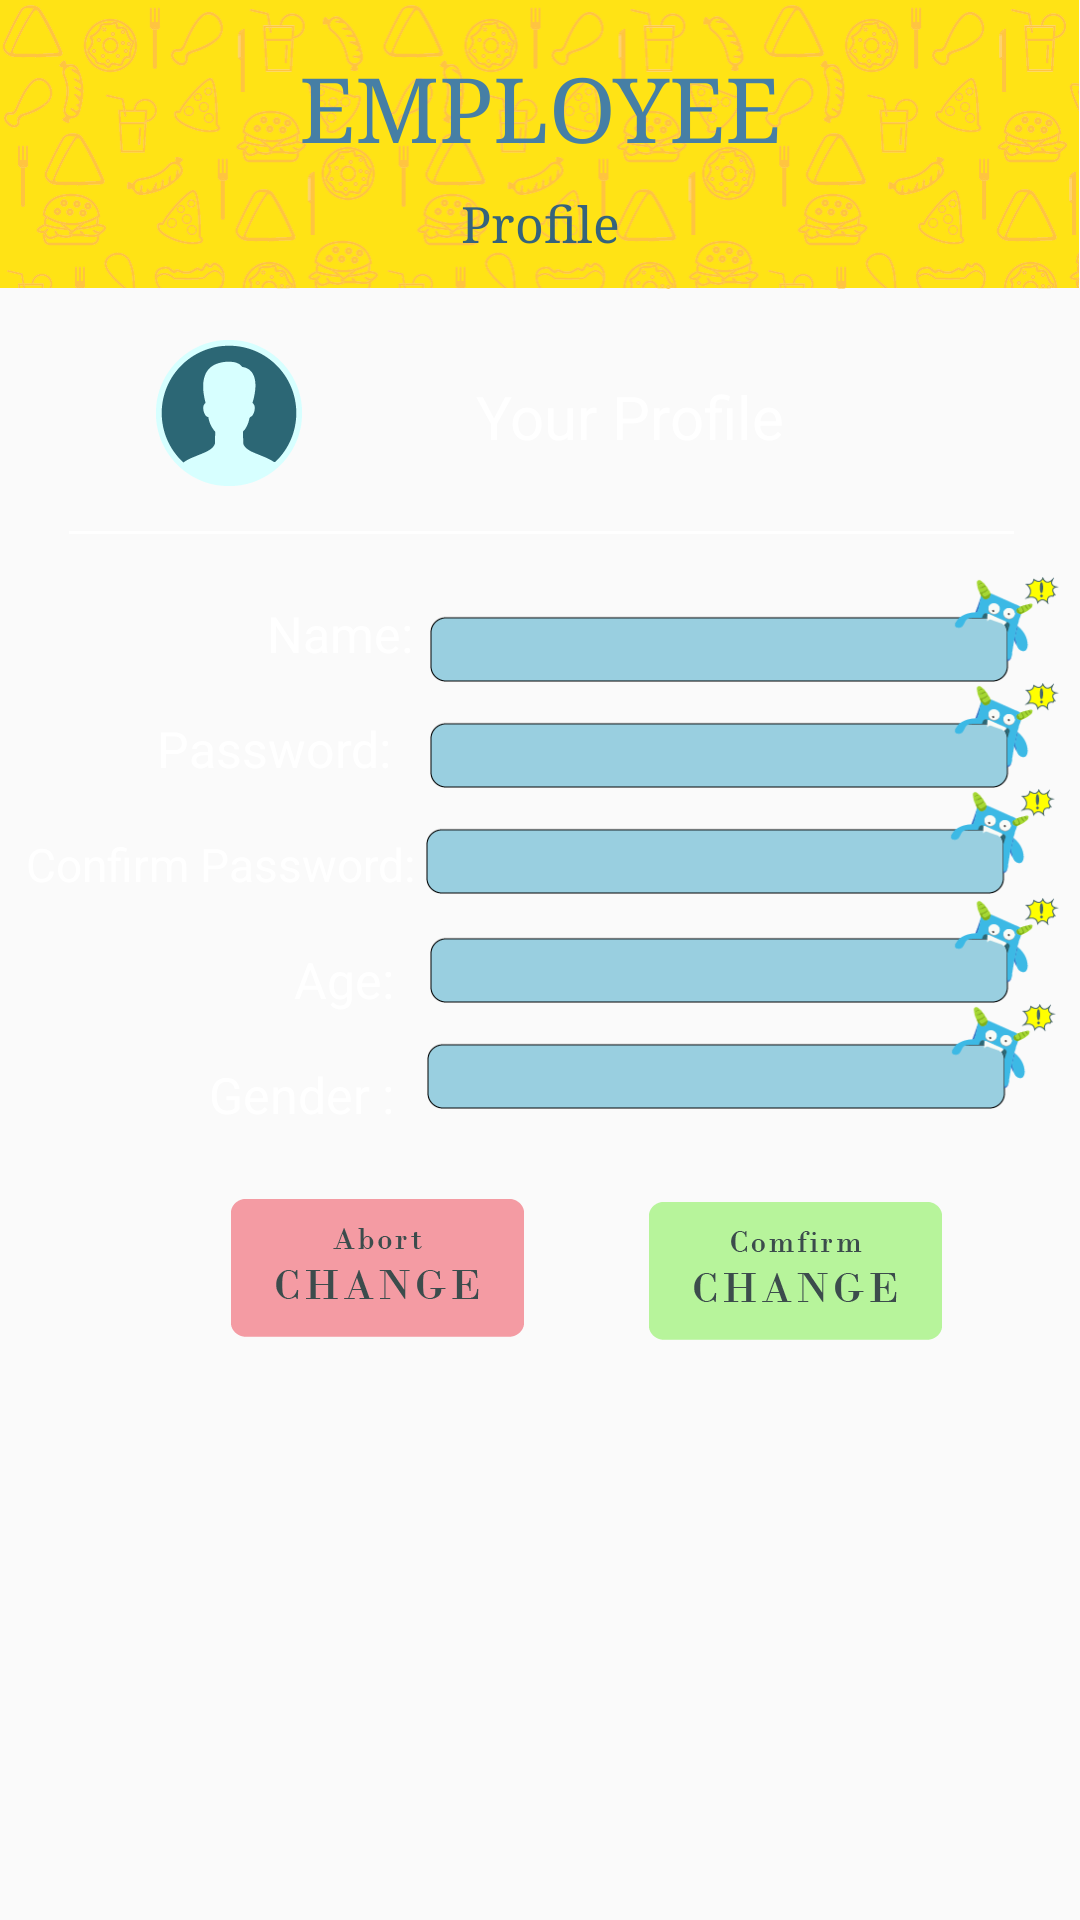

Icons on this 1080px x 1920px Android screen, each with its box as region(x1, y1, x2, y2):
user: region(156, 340, 302, 486)
